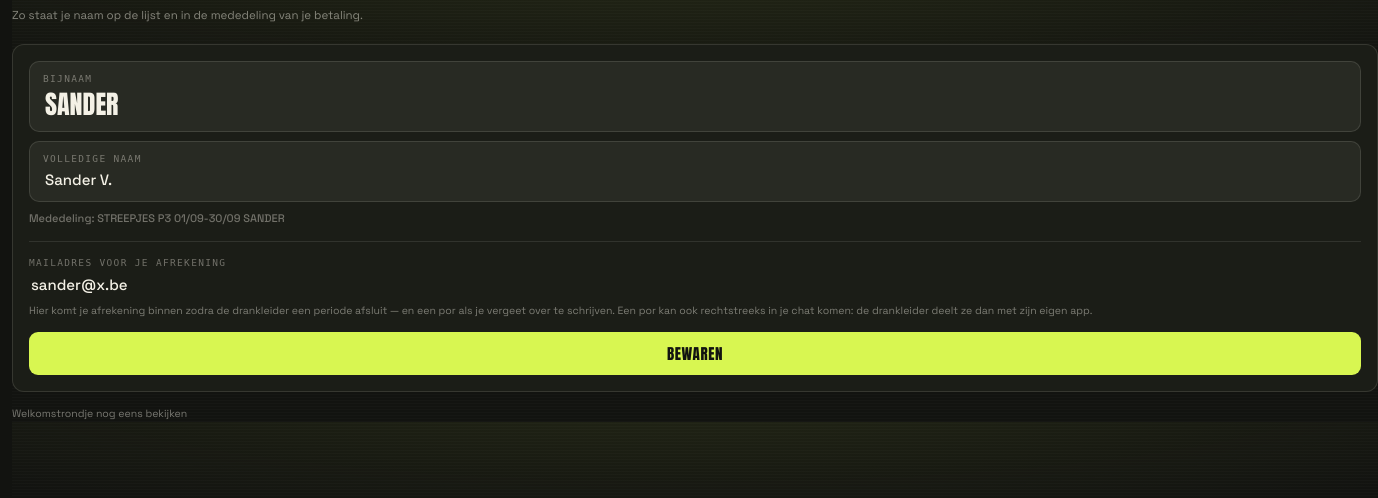
Test: AC6: de mededeling-preview volgt wat je typt
Expected: the text "Mededeling: STREEPJES P3 01/09-30/09 SANDER" is shown, [29, 211, 285, 225]
Replace the text in the field showing "Sander" below "BIJNAAM" with "Wollie": x=697, y=105 [43, 89, 1351, 120]
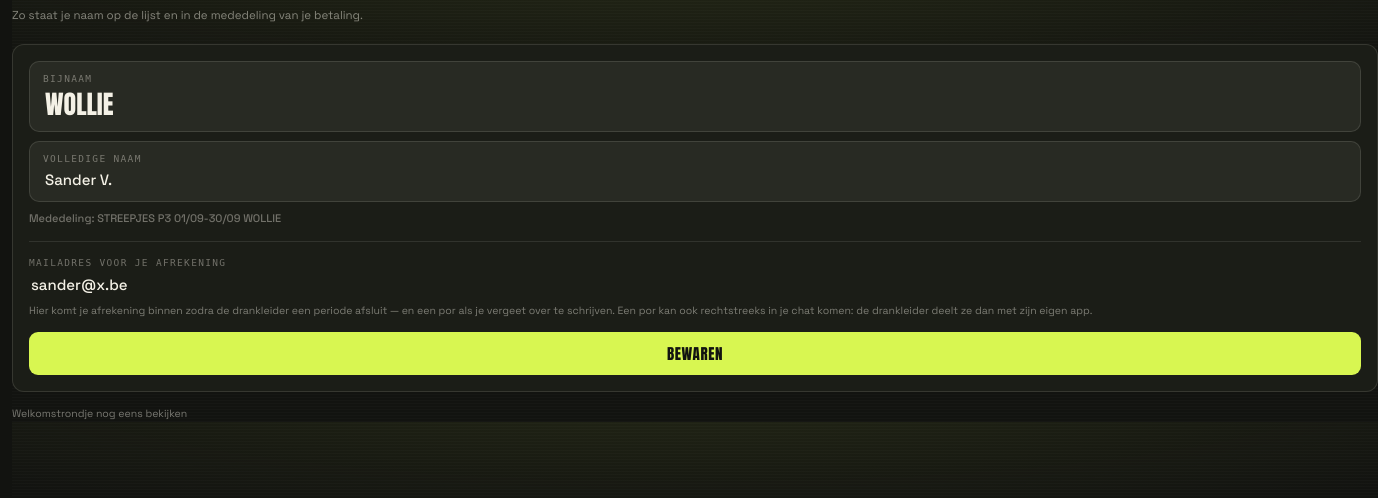
Now the text "Mededeling: STREEPJES P3 01/09-30/09 WOLLIE" is shown, box [29, 211, 281, 225]
